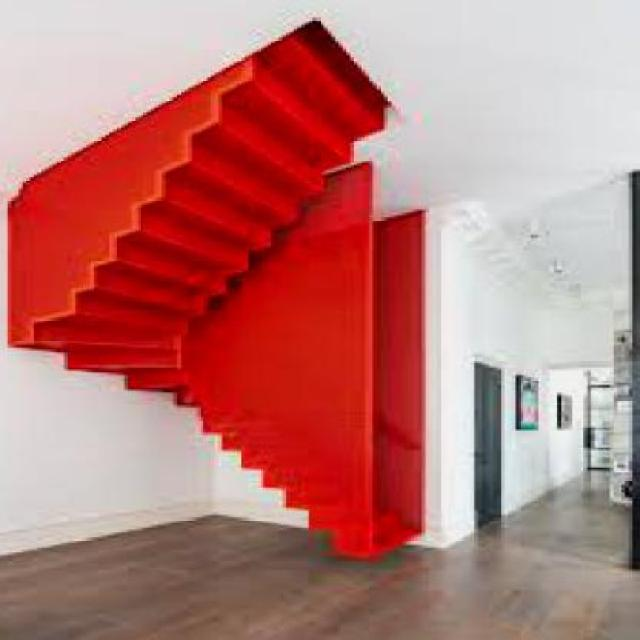stair: (3, 28, 437, 560)
